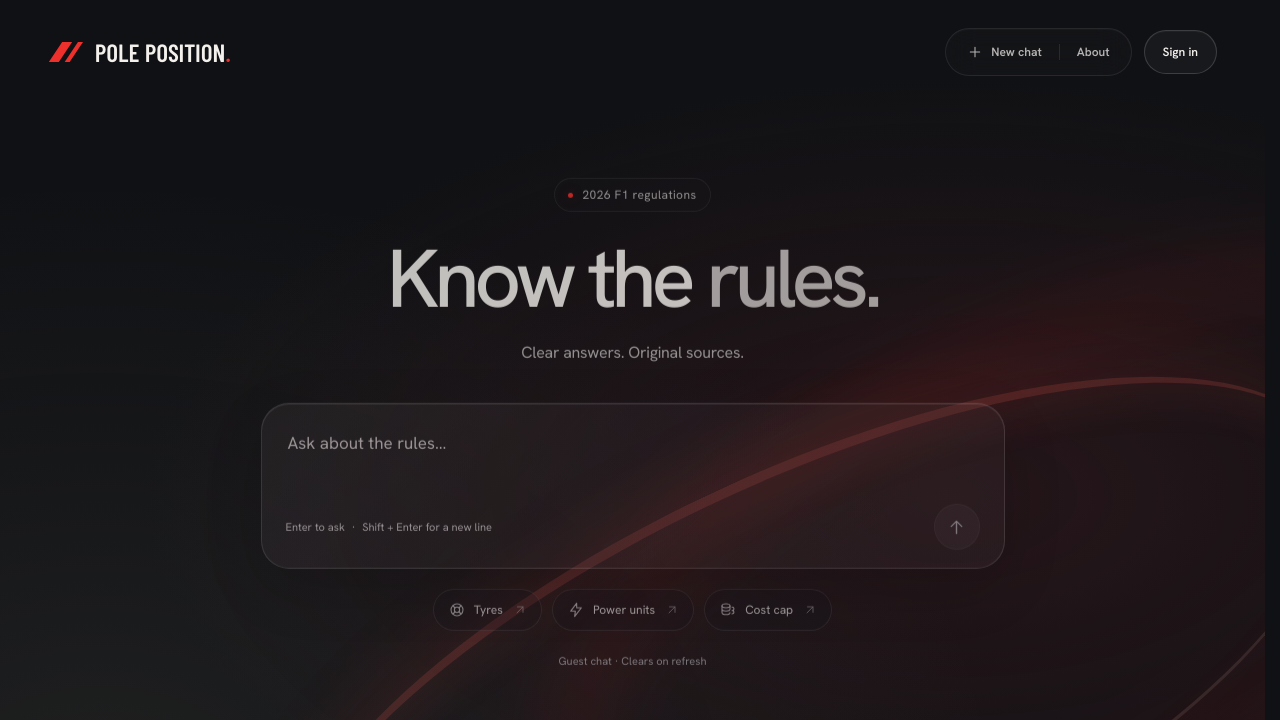
Test: welcome screen › Cost cap populates the composer without submitting
This screenshot has width=1280, height=720.
Click the button "Cost cap": click(768, 609) top-left (704, 588), bottom-right (832, 630)
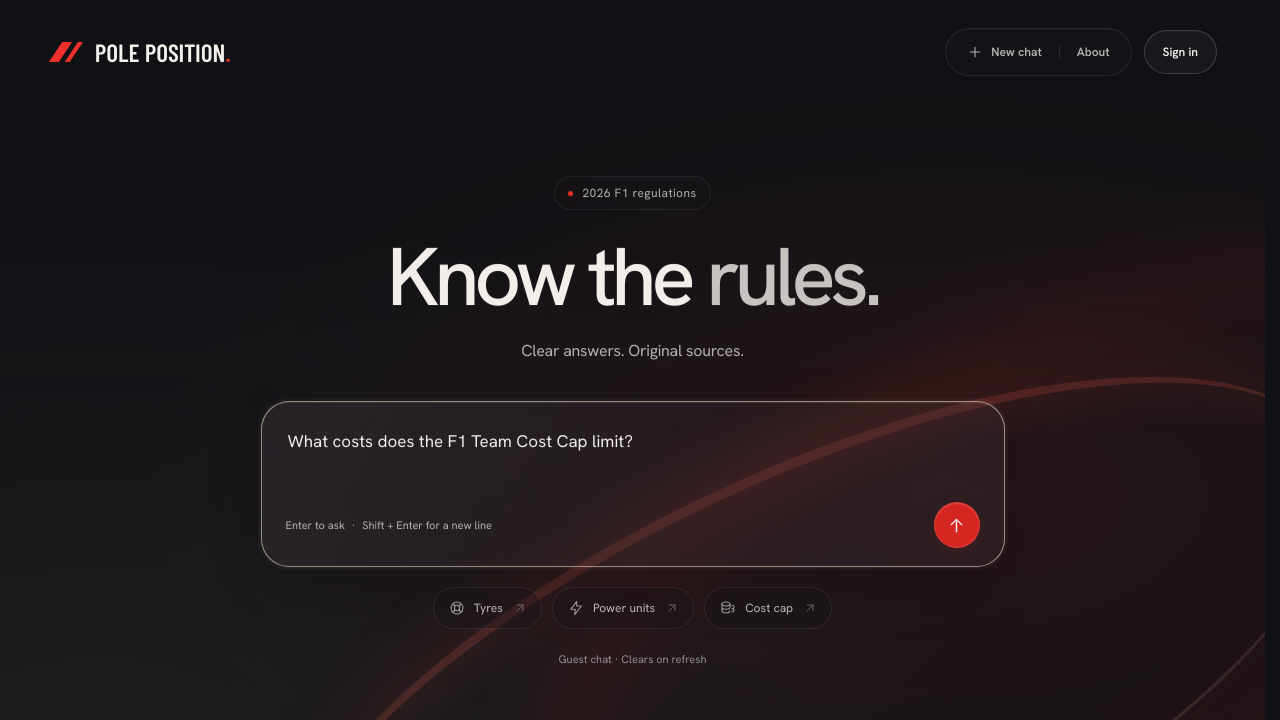
Expected: the text box holds "What costs does the F1 Team Cost Cap limit?", top-left (286, 424), bottom-right (980, 490)
